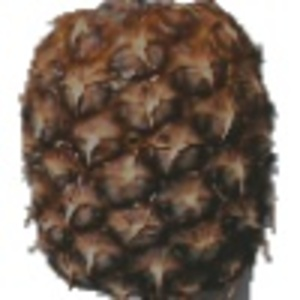abacaxi: (13, 2, 281, 294)
